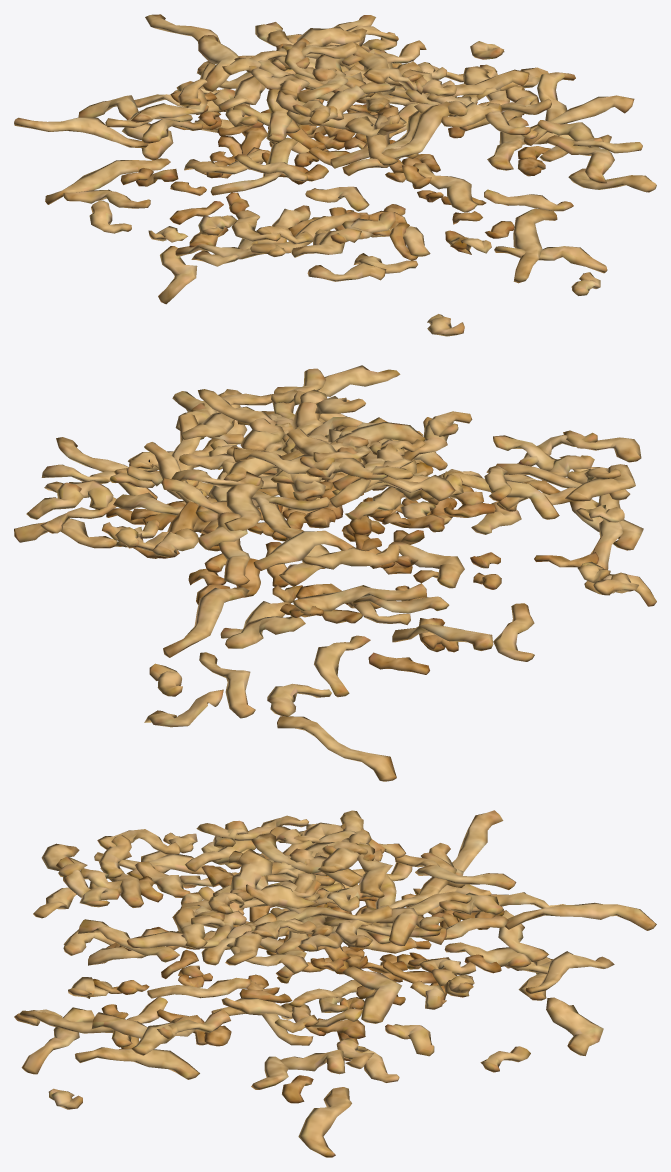
Rendered from cebolla-crispy.glb.
The picture shows the model from 3 angles, top to bottom: view 1: azimuth 30°, elevation 25°; view 2: azimuth 150°, elevation 25°; view 3: azimuth 270°, elevation 25°; orthographic projection. The views are drawn at different scales.
Visible parts, largest first — view 1: cebolla-crispy; view 2: cebolla-crispy; view 3: cebolla-crispy.
Boxes of the visible parts, x1=… form: cebolla-crispy: x1=14, y1=14, x2=656, y2=336; cebolla-crispy: x1=14, y1=365, x2=656, y2=781; cebolla-crispy: x1=14, y1=810, x2=656, y2=1157.
Size of the model in its own units: 2.3 by 0.792 by 2.28.
1 material, 1 textured.
